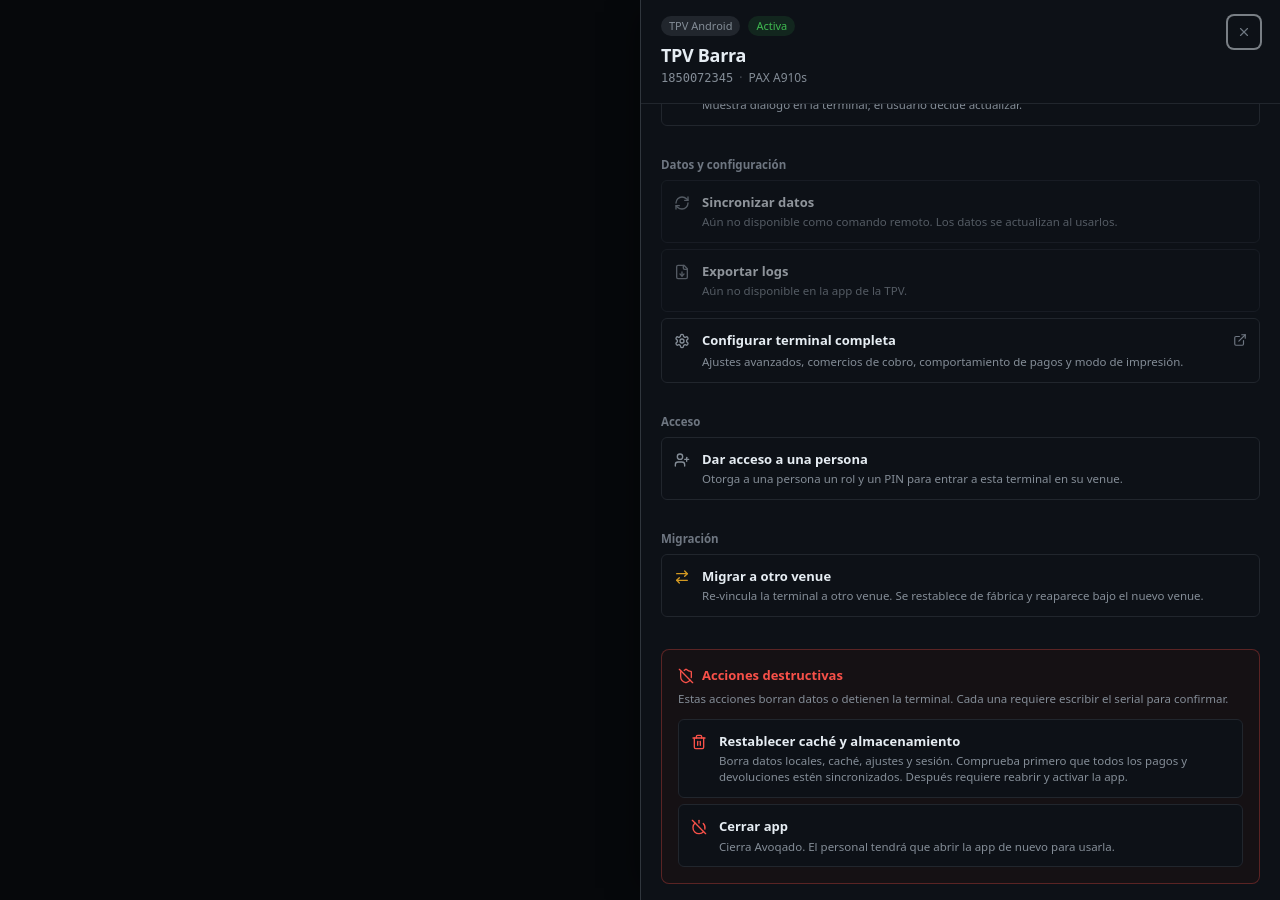
Scenario: TerminalActionDrawer › activa el flow de confirmación al hacer click en FACTORY_RESET
This screenshot has width=1280, height=900.
(page scrolled)
Click the text "Restablecer caché y almacenamiento" at [840, 741], box [719,732,960,750]
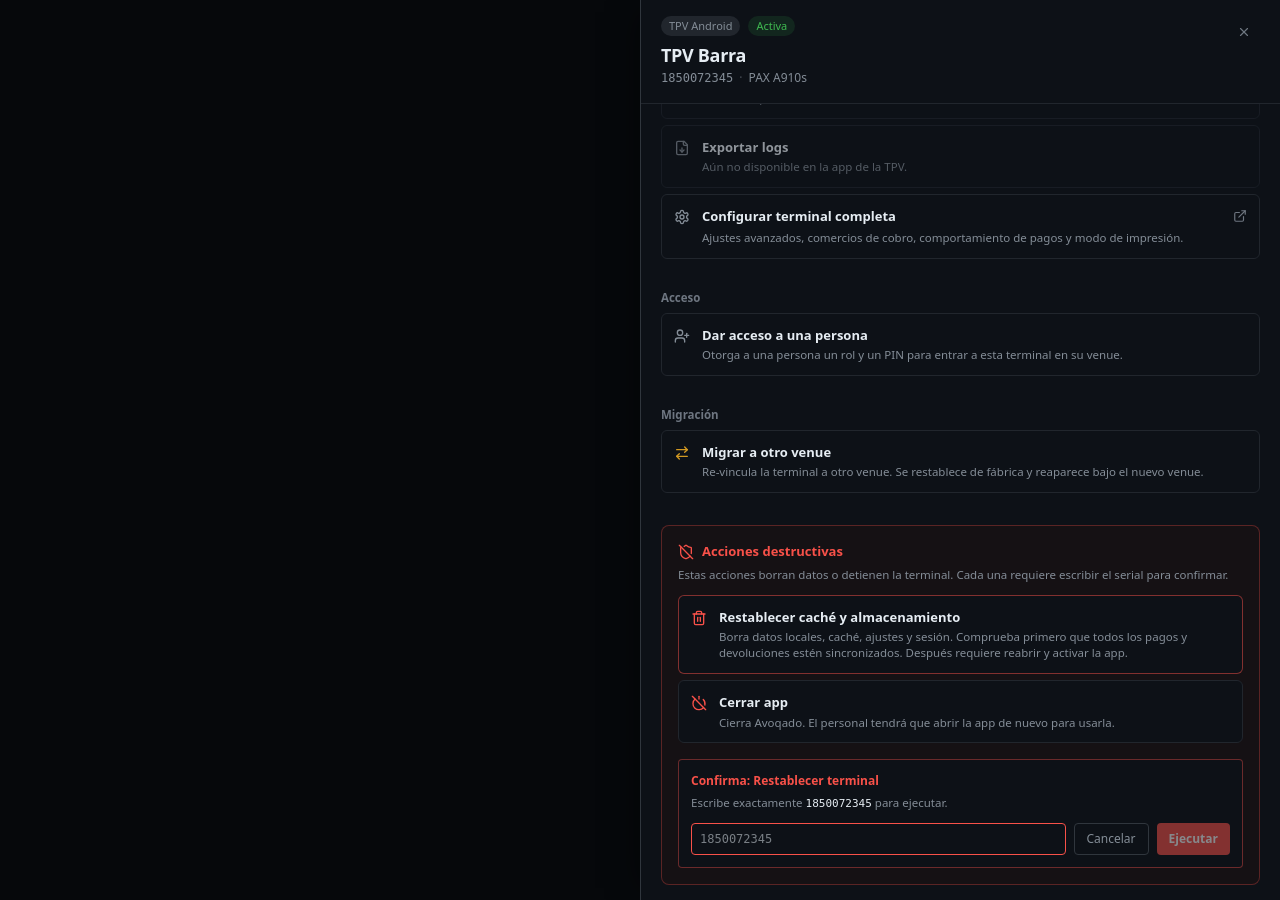
Expected: the text "Confirma: Restablecer terminal" is shown, [691,772,879,789]
Expected: the button "Ejecutar" is disabled, [1157,823,1230,855]
